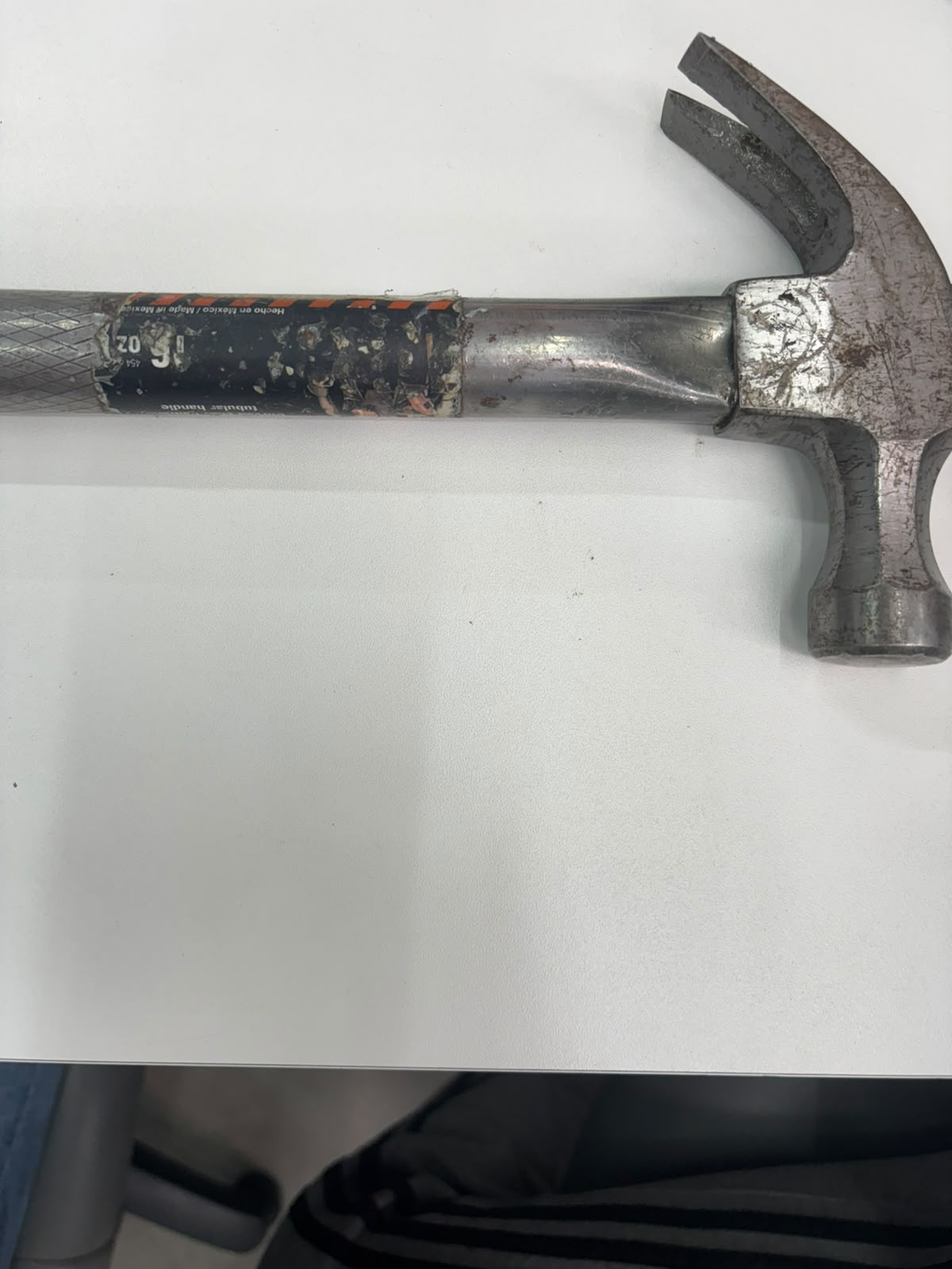hammer: (519, 25, 952, 692)
